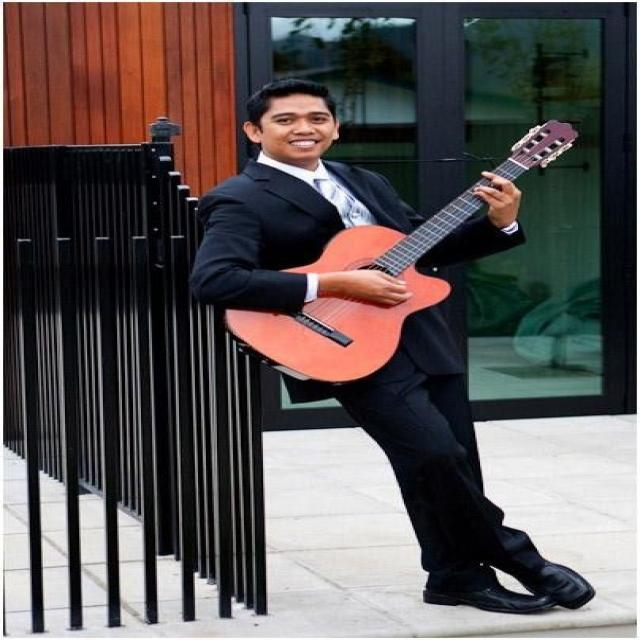guitar: (222, 122, 580, 385)
